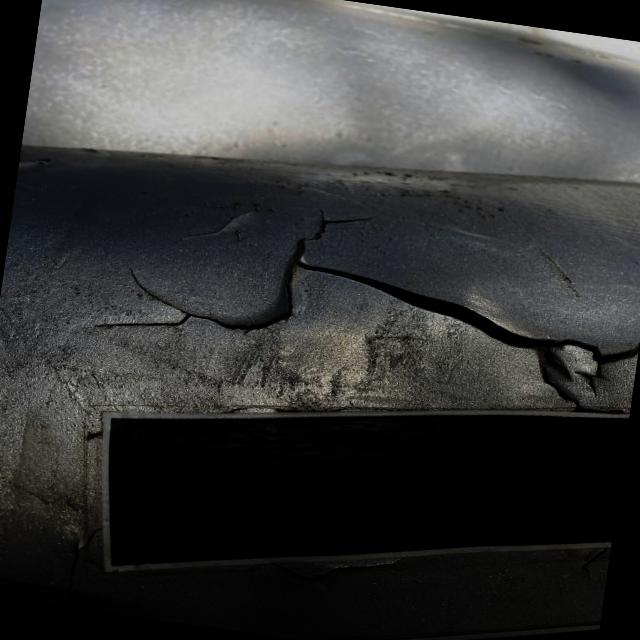crack: (304, 258, 640, 386), (80, 252, 312, 374), (282, 202, 372, 266)
